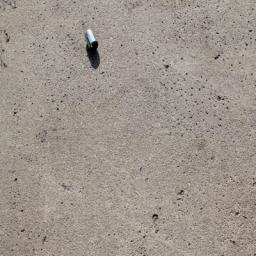FOD: (82, 27, 104, 69)
